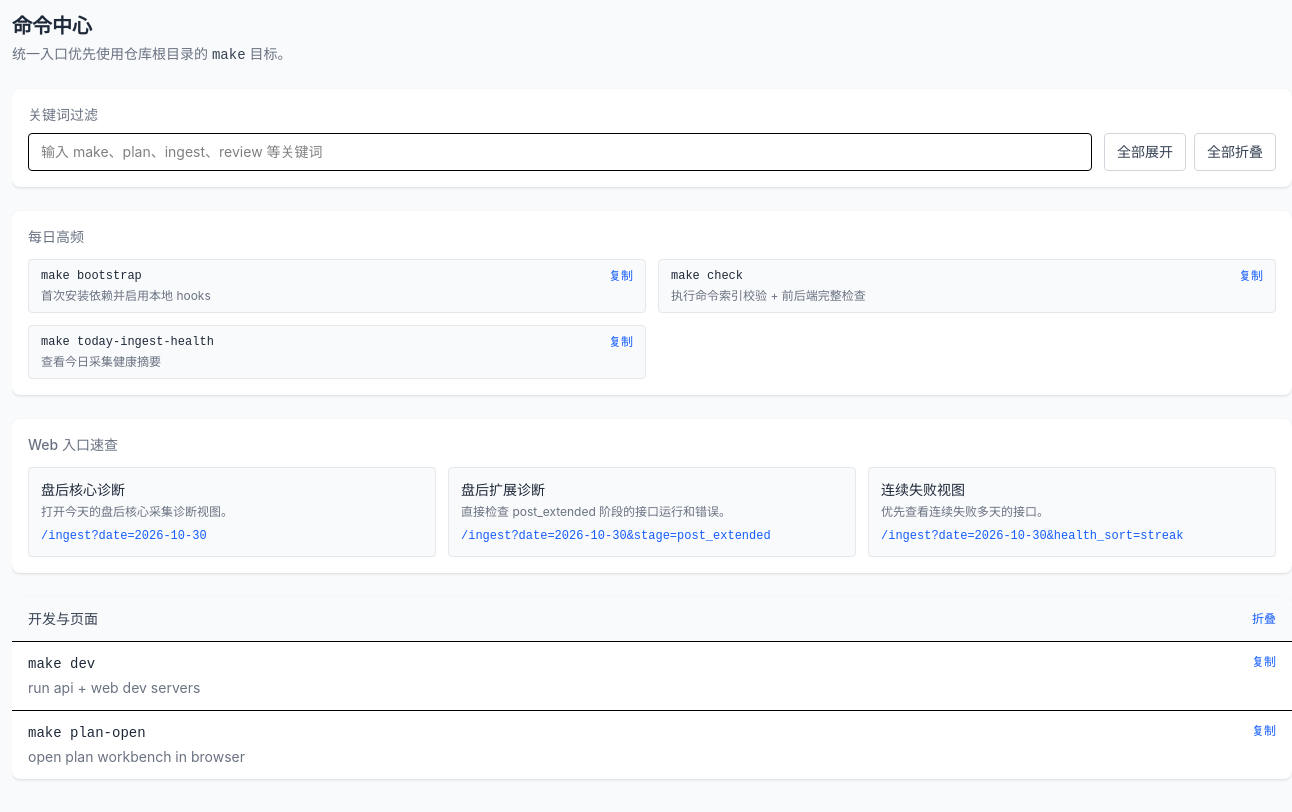
CommandsCenter › collapses and expands grouped sections
Expected: the heading "开发与页面" is shown, x1=28 y1=609 x2=98 y2=629
Click the button "折叠" at x=1264, y=619, box x1=1252 y1=611 x2=1276 y2=627
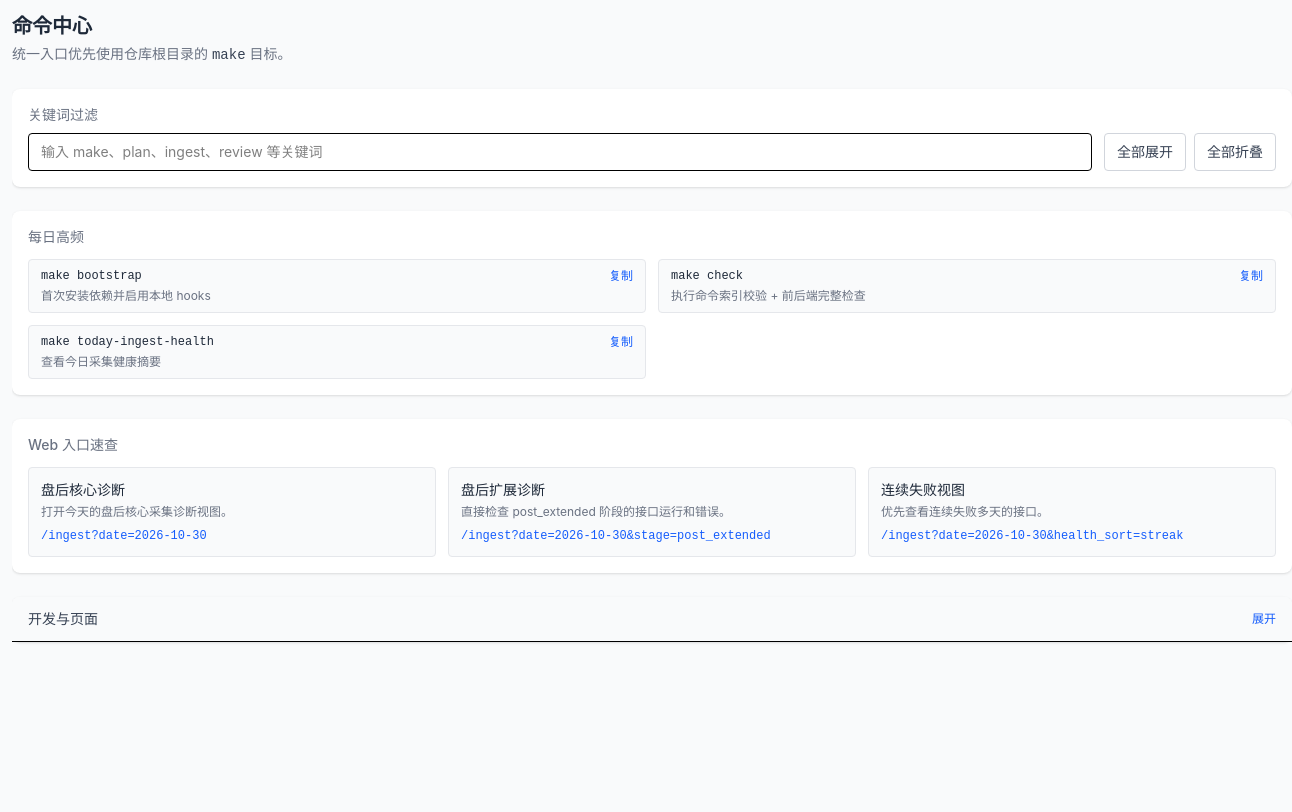
Now the text "make dev" is gone
Click the button "展开" at x=1264, y=619, box x1=1252 y1=611 x2=1276 y2=627
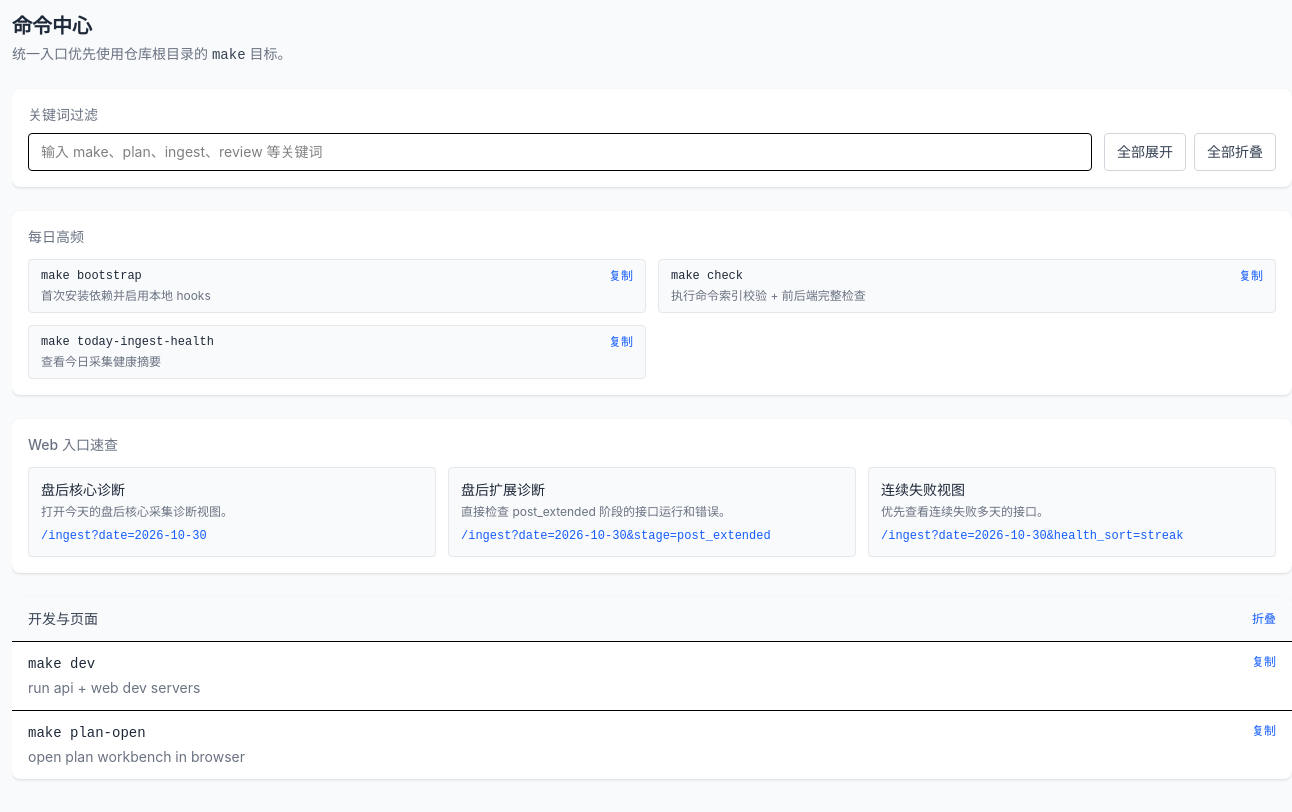
Now the text "make dev" is shown, box x1=28 y1=654 x2=95 y2=674
Click the button "全部折叠" at x=1235, y=152, box x1=1194 y1=133 x2=1276 y2=171
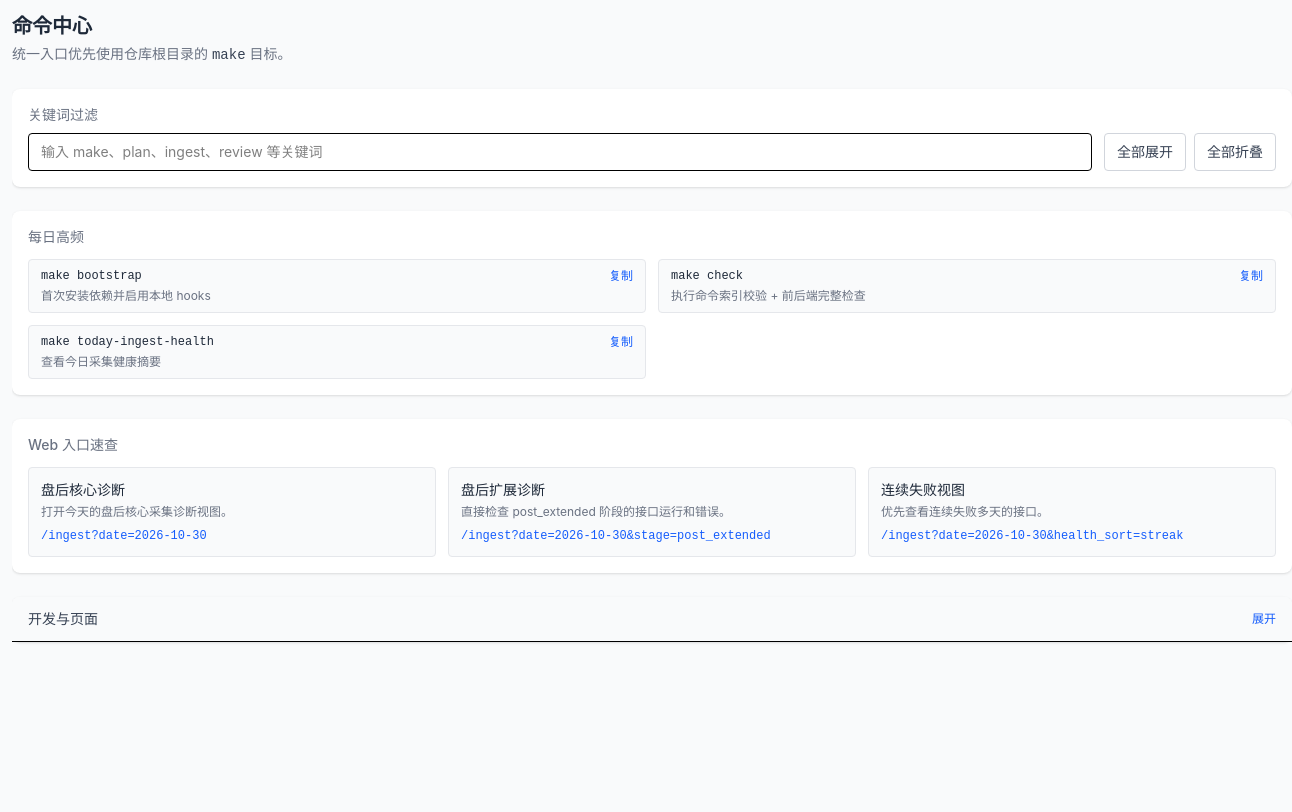
Now the text "make dev" is gone
Click the button "全部展开" at x=1145, y=152, box x1=1104 y1=133 x2=1186 y2=171
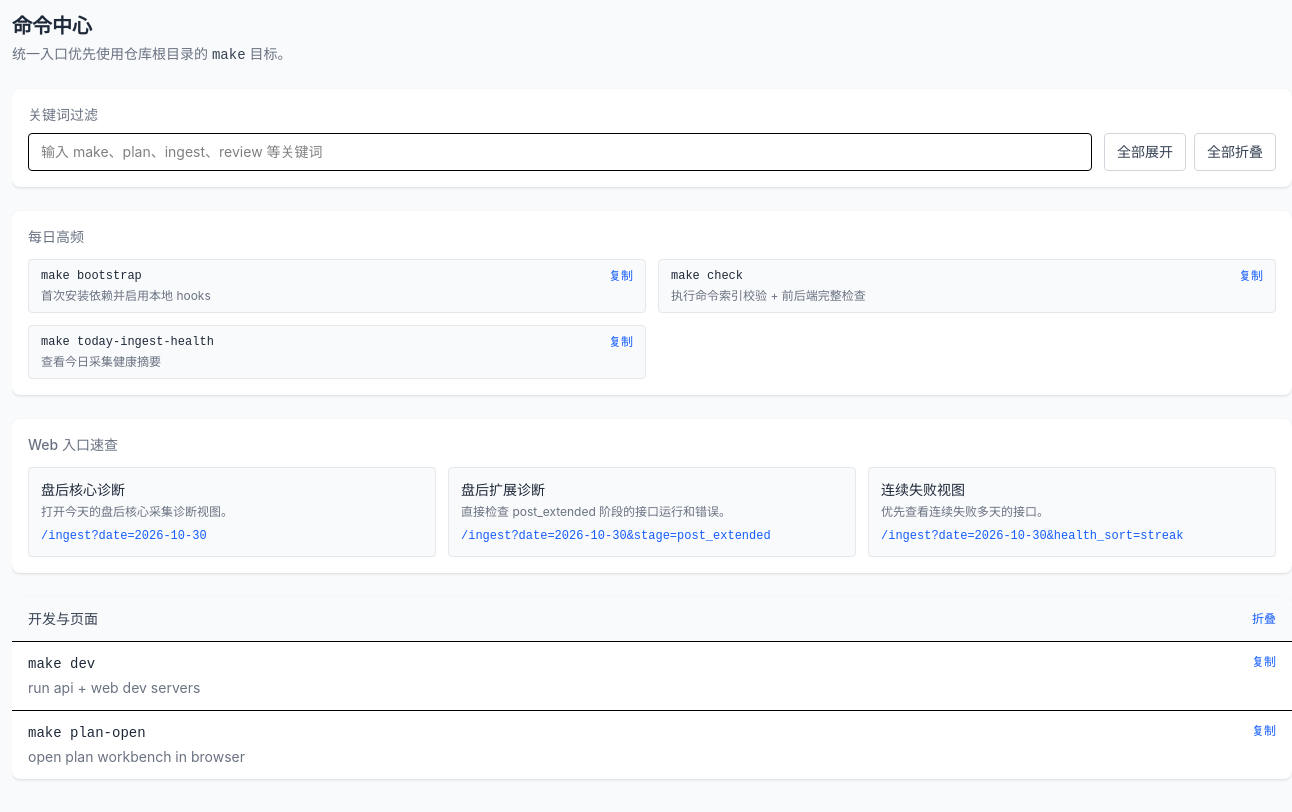
Now the text "make dev" is shown, box x1=28 y1=654 x2=95 y2=674
